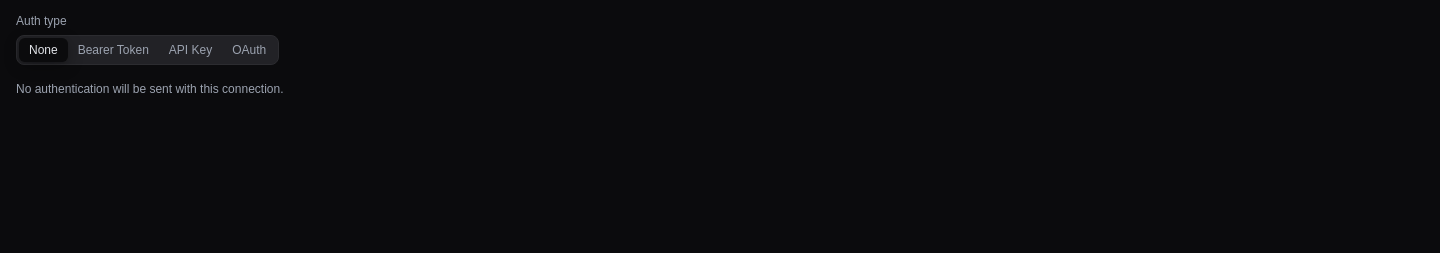
Test: AuthPanel › switches the Connection to OAuth and shows the signed-in account, then signs it out
This screenshot has width=1440, height=253.
Later steps or results of the test are not shown.
Click the radio button labelled "OAuth" at (249,50), box 222,38 -> 276,62
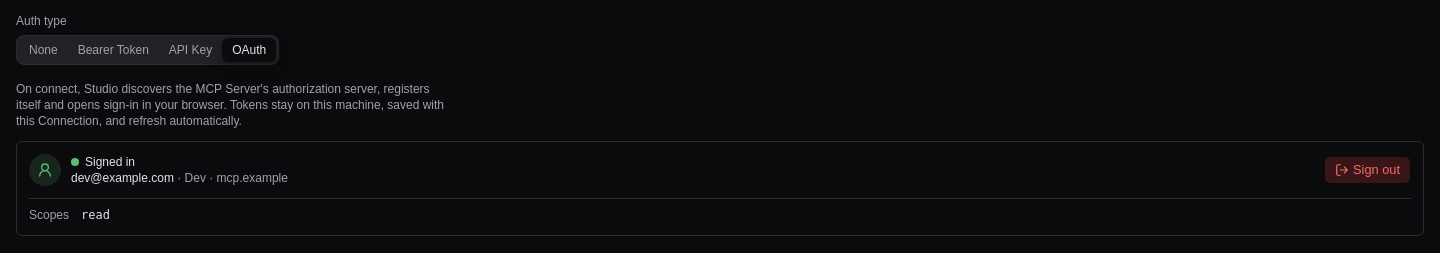
Now the text "Signed in" is shown, box 71,155 -> 135,169
Now the text "dev@example.com" is shown, box 71,171 -> 174,185
Now the text "dev@example.com · Dev · mcp.example" is shown, box 71,170 -> 288,186
